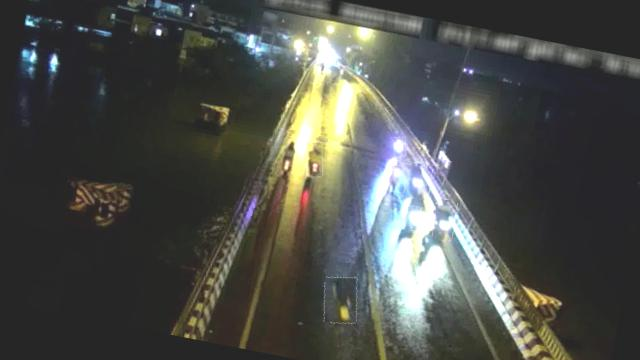Bike: (318, 274, 362, 326), (401, 160, 434, 201), (431, 198, 458, 241), (302, 140, 326, 178), (280, 139, 300, 175), (402, 204, 423, 232), (386, 164, 402, 188), (392, 136, 408, 158)
